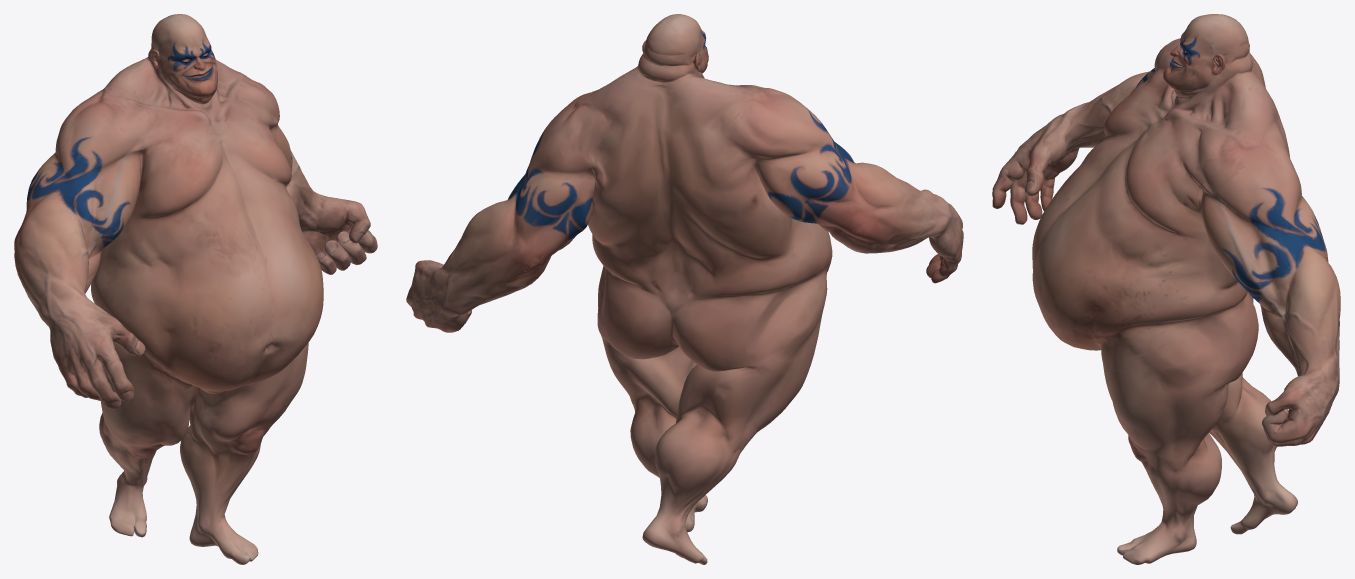
3 renders of one model, left to right at view 1: azimuth 30°, elevation 25°; view 2: azimuth 150°, elevation 25°; view 3: azimuth 270°, elevation 25°, orthographic. The views are drawn at different scales.
Visible parts, largest first — view 1: Earthquake_82_optim; view 2: Earthquake_82_optim; view 3: Earthquake_82_optim.
Boxes of the visible parts, x1,y1,x2,y2 form: Earthquake_82_optim: [14, 14, 377, 564]; Earthquake_82_optim: [406, 14, 963, 564]; Earthquake_82_optim: [992, 14, 1340, 564].
Size of the model in its own units: 1.76 by 2.04 by 1.21.
